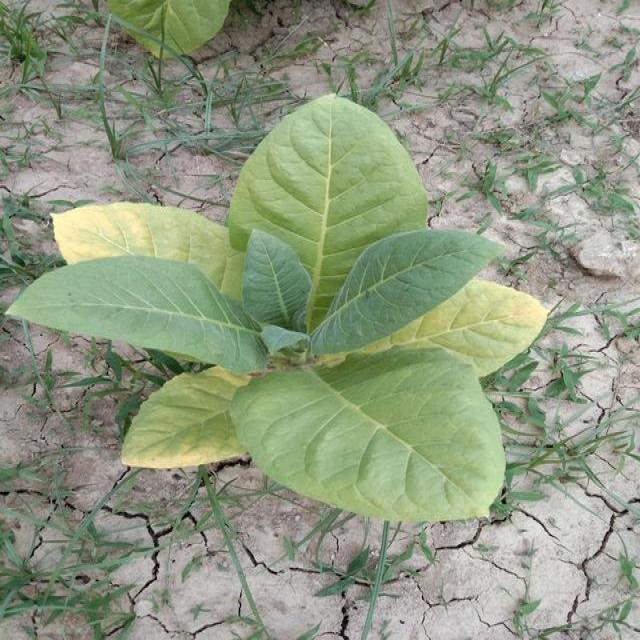crop: (45, 98, 537, 524)
